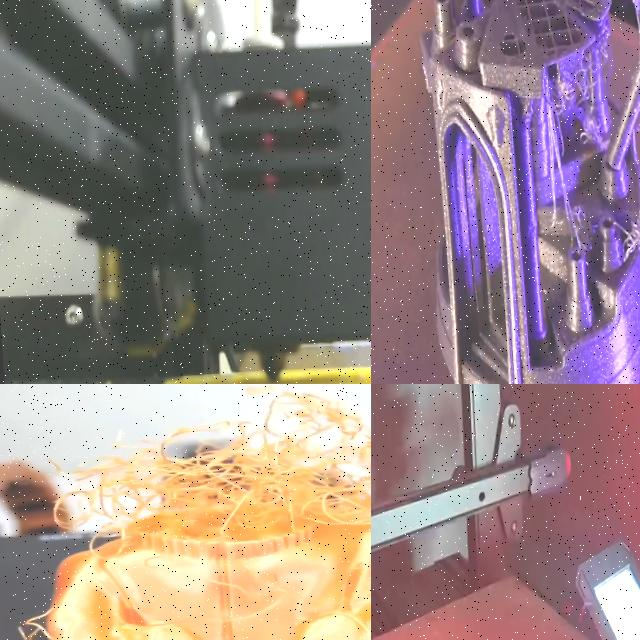spaghetti: (74, 385, 371, 640), (536, 39, 618, 159), (628, 40, 640, 154), (621, 211, 640, 280)
